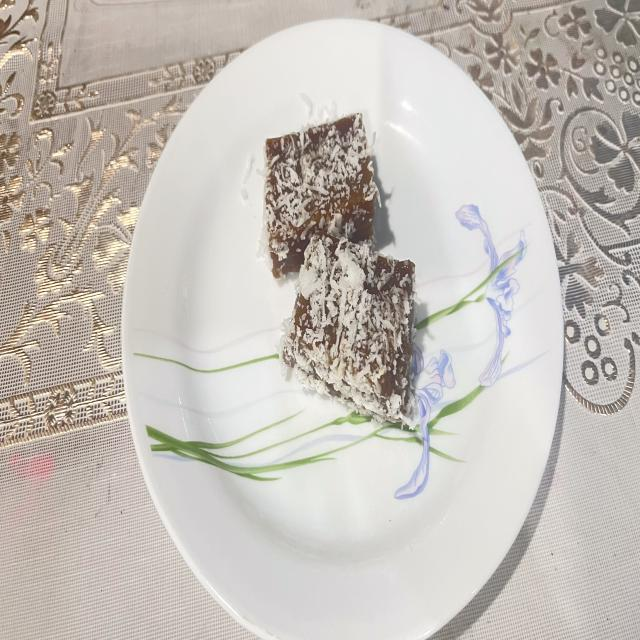kaswi: (280, 236, 416, 422), (264, 113, 379, 278)
